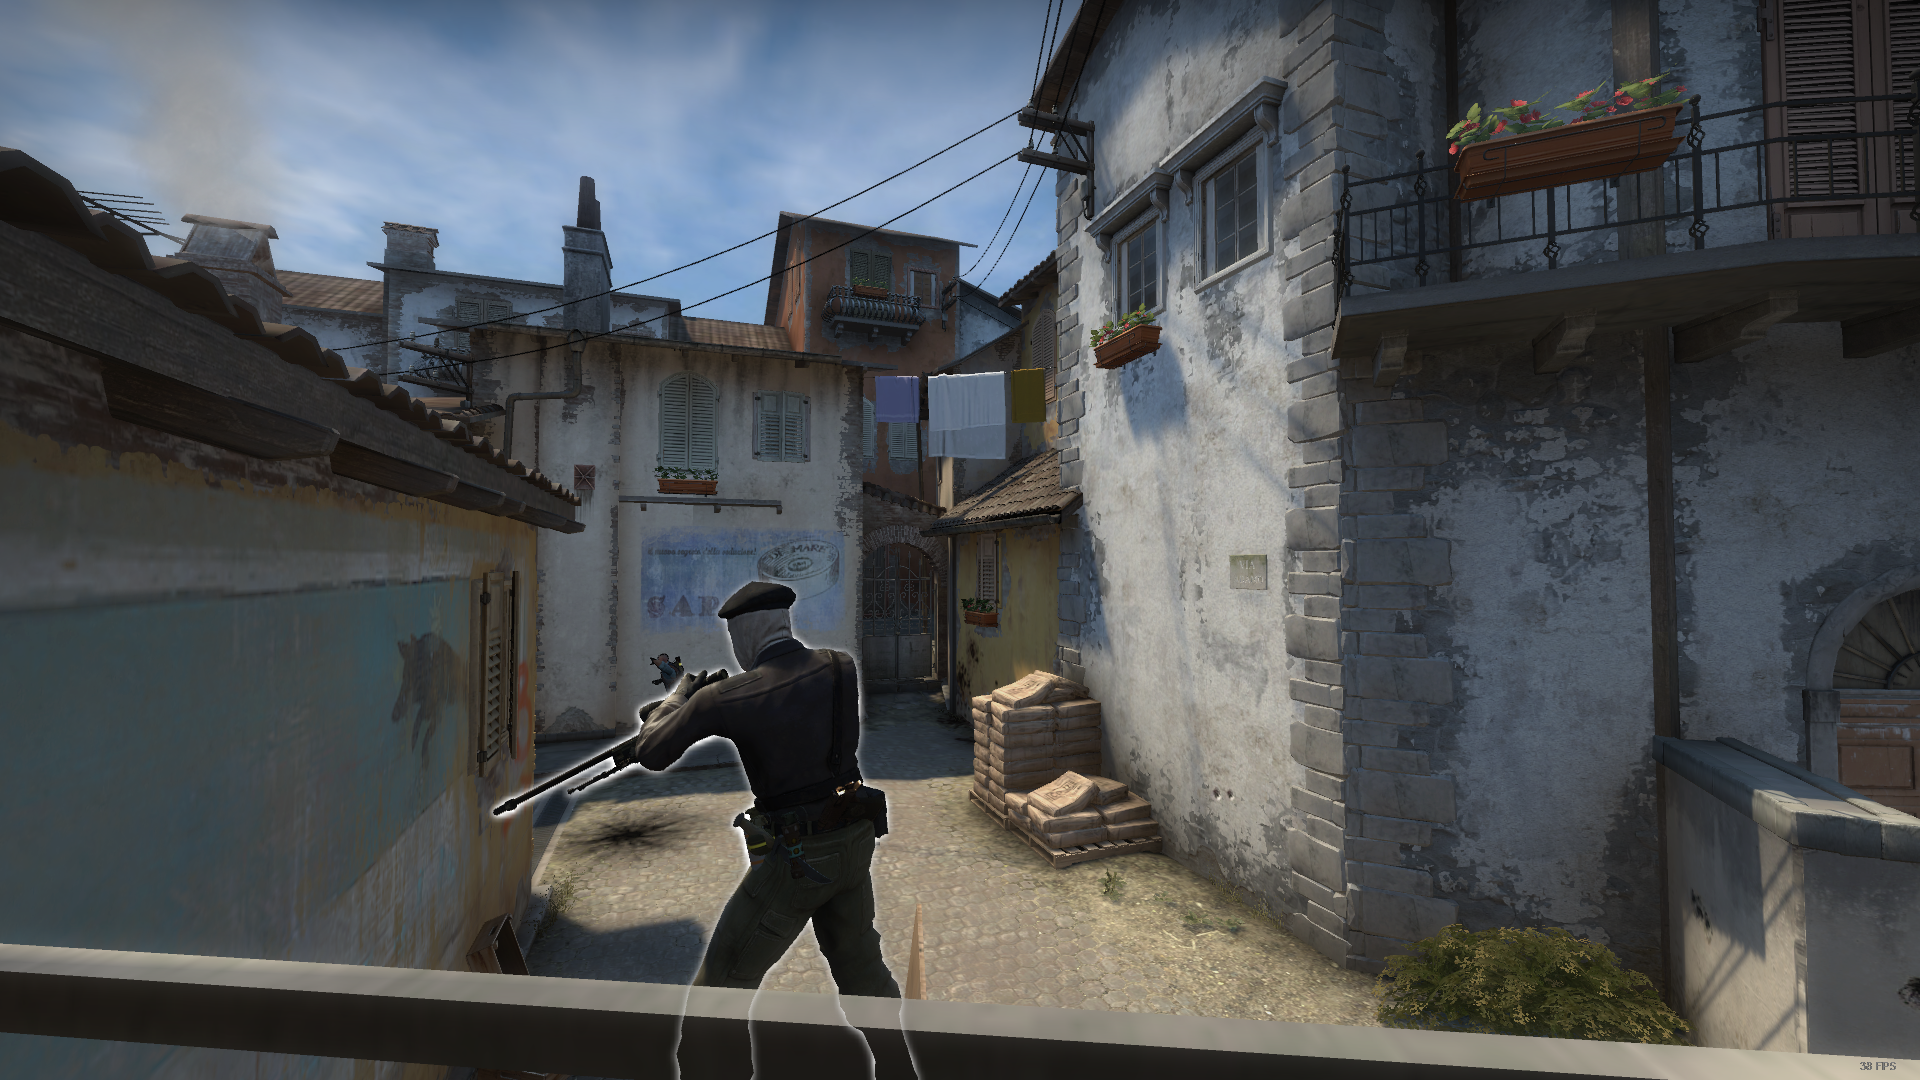t: (638, 582, 920, 1080)
